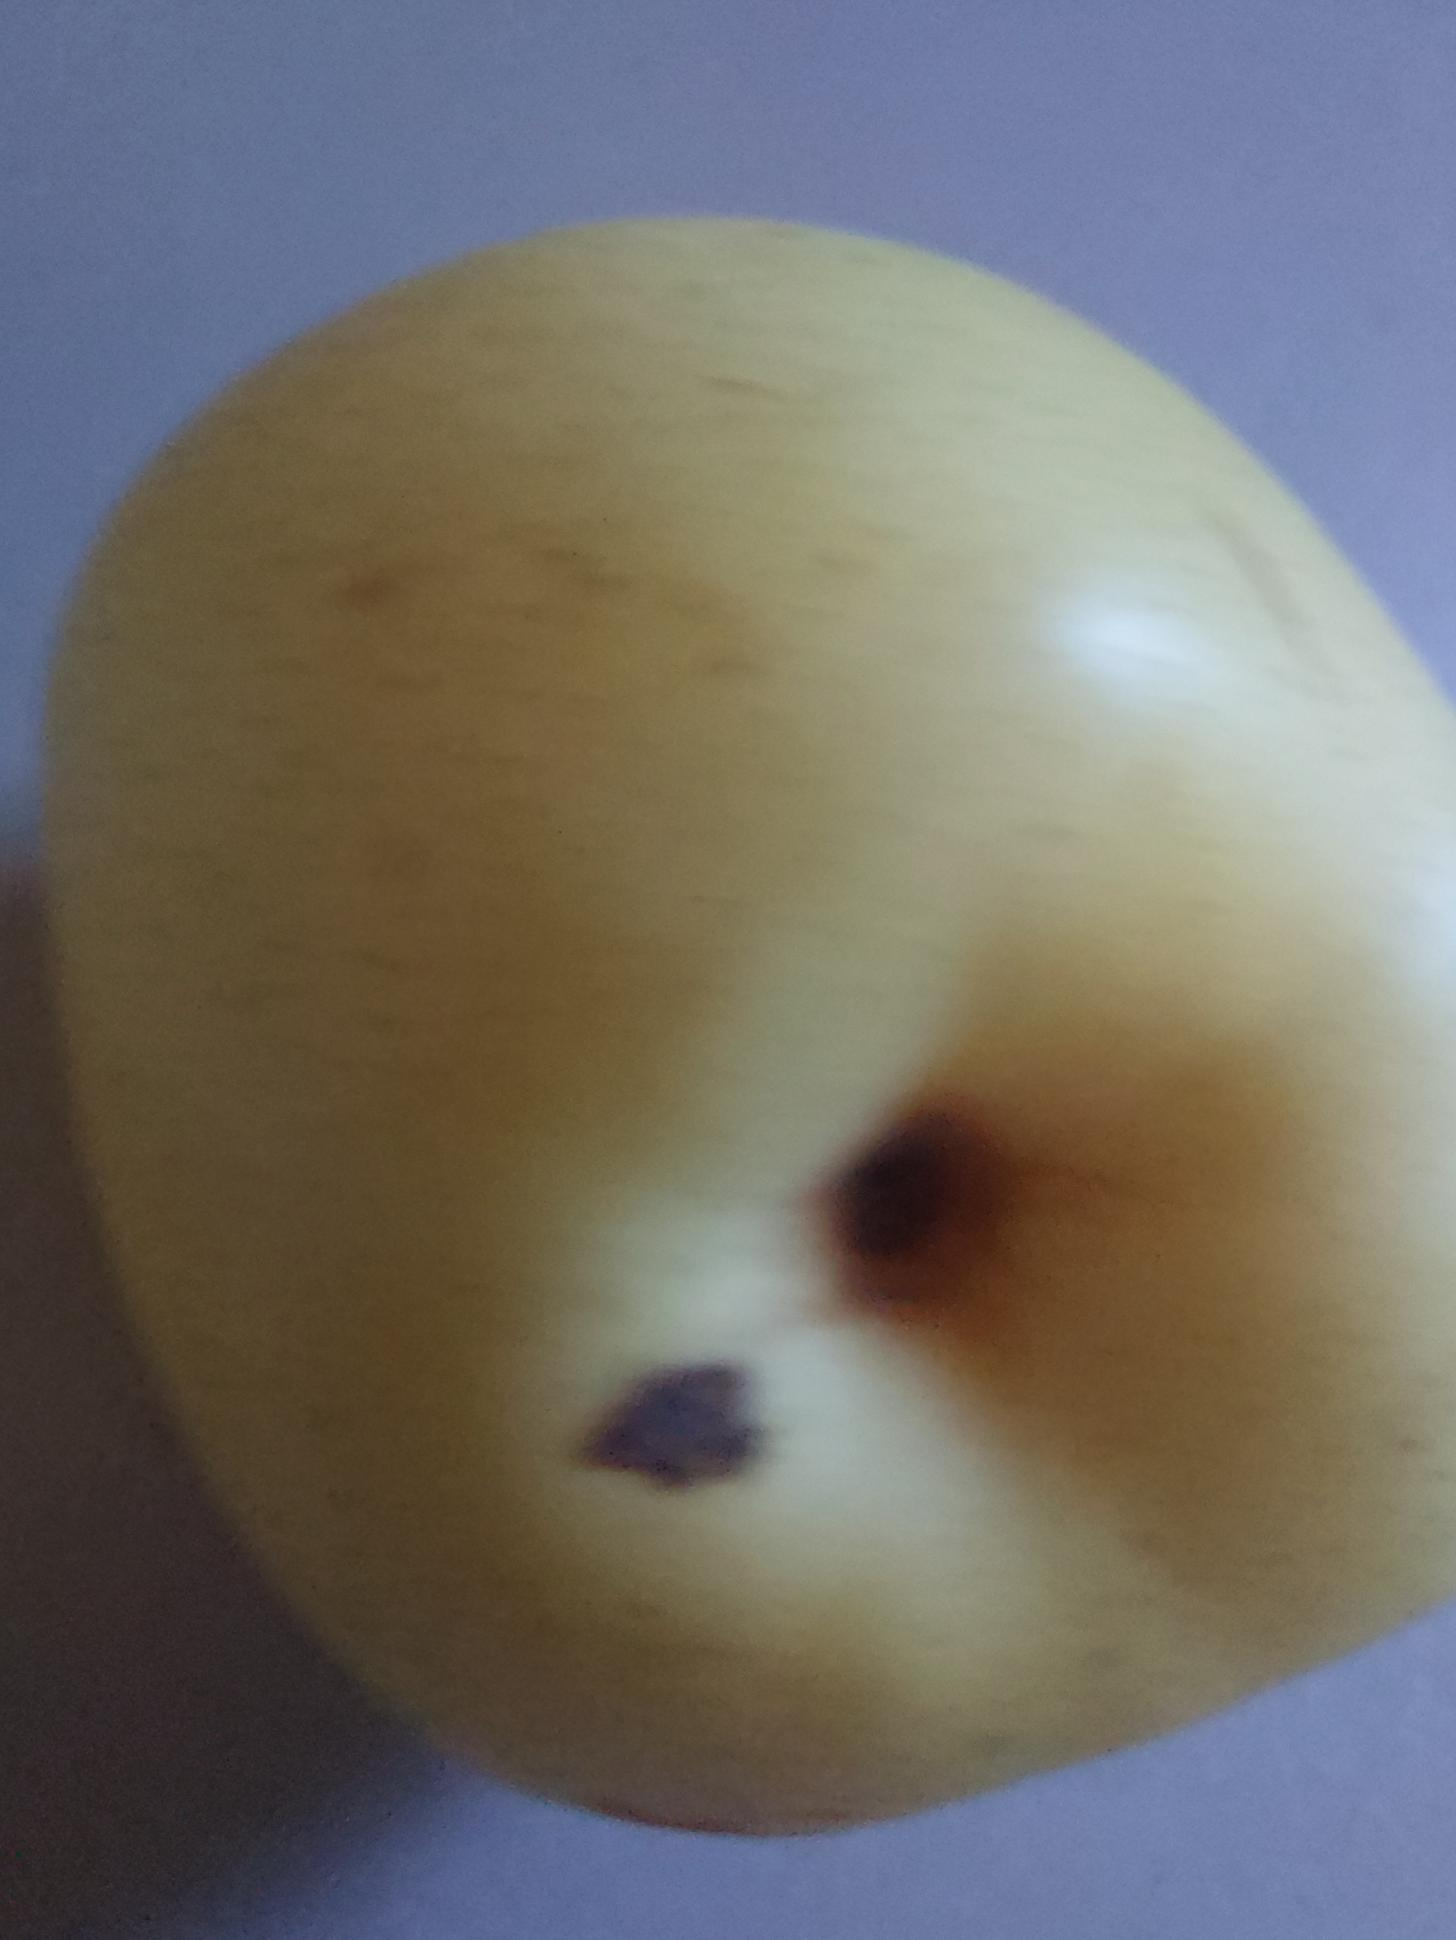Good Pear: (2, 182, 1456, 1870)
